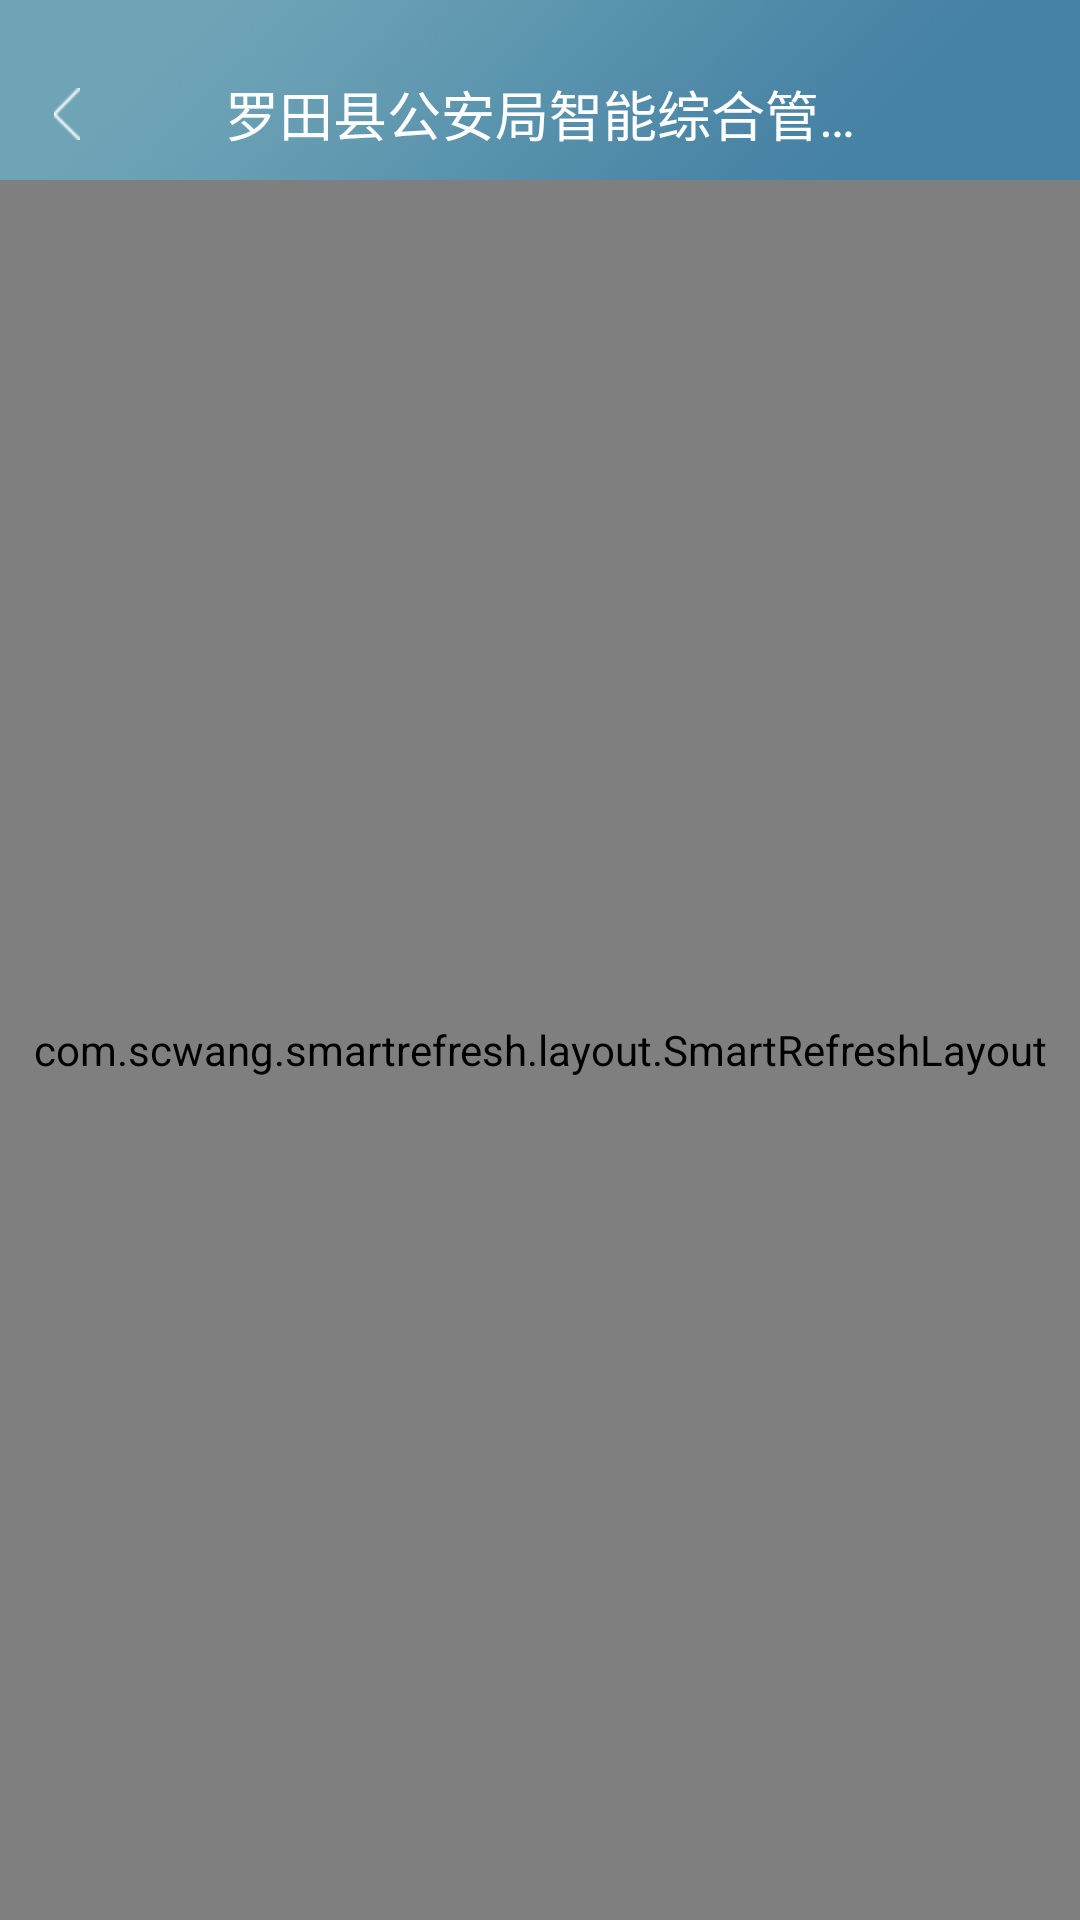

Screen size 1080px×1920px. Icon name, then its center in pixels as point (x, y):
back: point (67, 114)
